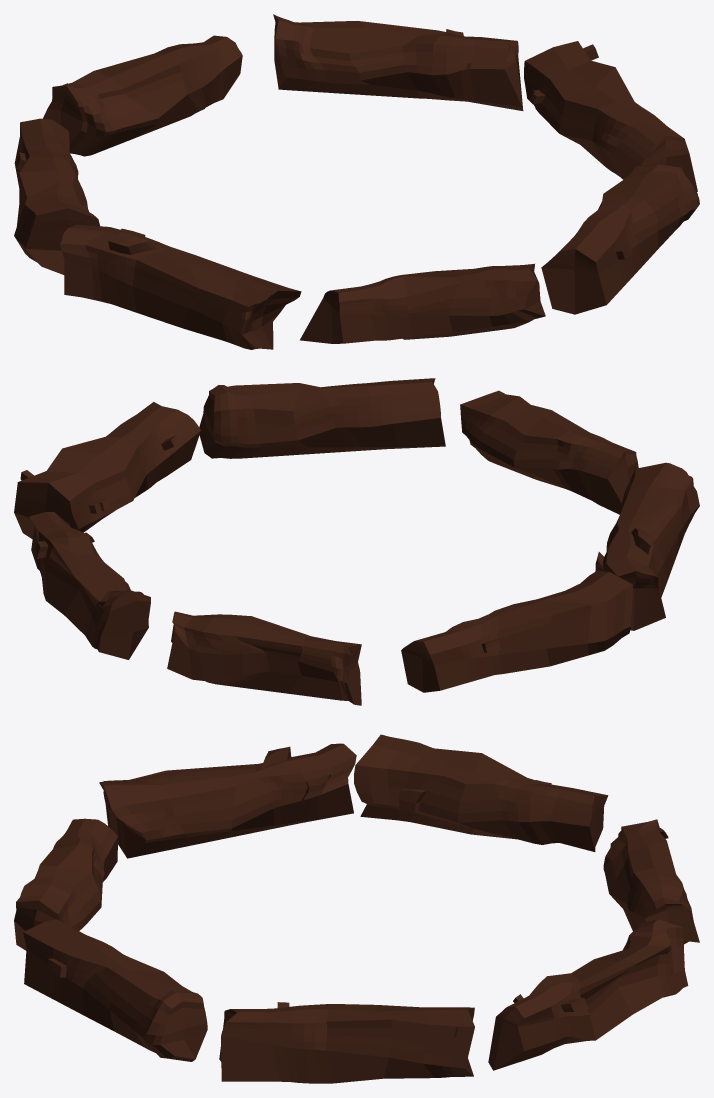
The model's file is campfire timber.fbx.
3 renders of one model, top to bottom at view 1: azimuth 30°, elevation 25°; view 2: azimuth 150°, elevation 25°; view 3: azimuth 270°, elevation 25°, orthographic. The views are drawn at different scales.
Visible parts, largest first — view 1: log; view 2: log; view 3: log.
Part boxes in pixels (x1,y1,x2,y2): log: (14, 14, 699, 349); log: (14, 378, 699, 705); log: (14, 734, 699, 1083).
Bounding box in the file's own units: 122 × 15.58 × 120.
